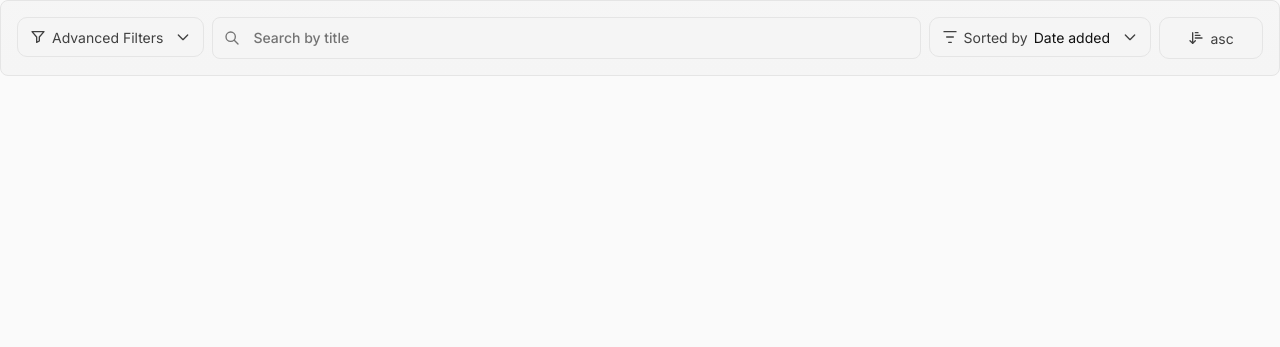
Test: MediaFilterBar movie profile › uses Watched as the canonical TV completion label
Step 1. Click the button "Advanced Filters" → [111, 37], box [17,17,204,57]
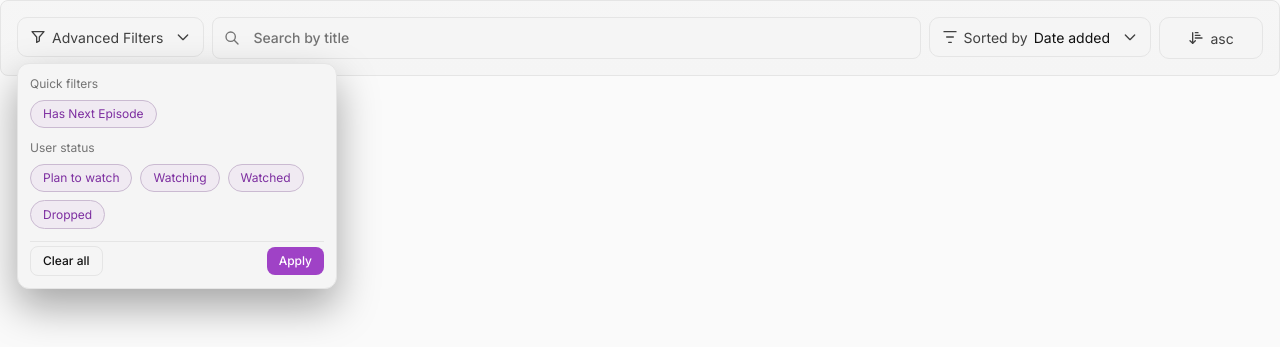
Result: the button with class "chip" reads "Watched" at [228,164,304,192]
